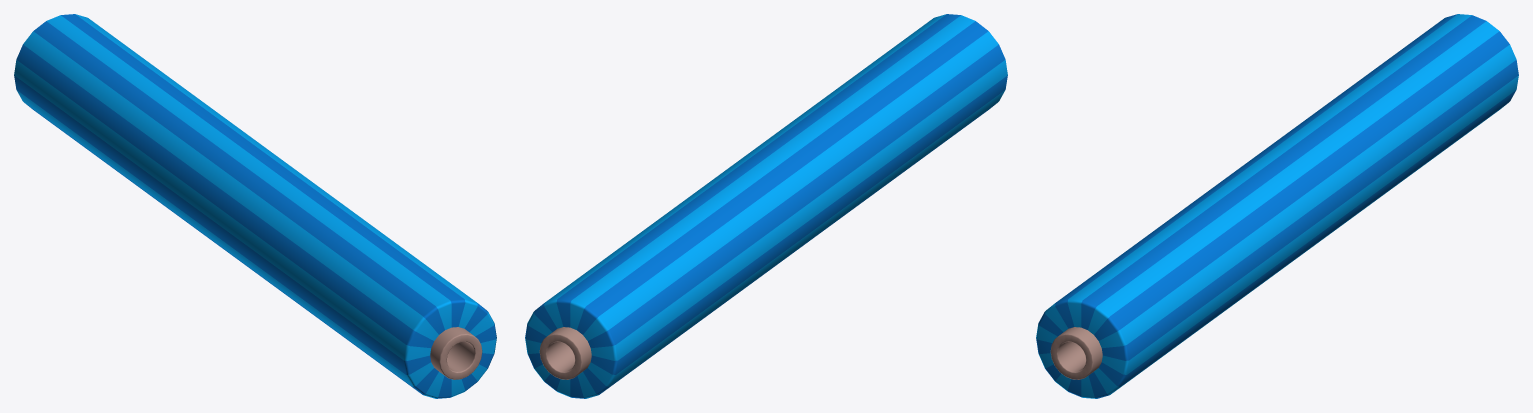
The model's file is Public_19_Fabric_Roll_1.glb.
The picture shows the model from 3 angles, left to right: view 1: azimuth 30°, elevation 25°; view 2: azimuth 150°, elevation 25°; view 3: azimuth 330°, elevation 25°; orthographic projection.
Visible parts, largest first — view 1: Public_19_Fabric_Roll_1; view 2: Public_19_Fabric_Roll_1; view 3: Public_19_Fabric_Roll_1.
Boxes of the visible parts, x1,y1,x2,y2 form: Public_19_Fabric_Roll_1: [14, 14, 496, 398]; Public_19_Fabric_Roll_1: [525, 14, 1007, 398]; Public_19_Fabric_Roll_1: [1036, 14, 1518, 398].
Size of the model in its own units: 0.397 by 0.397 by 3.04.
Materials: 1 (1 with a texture image).
